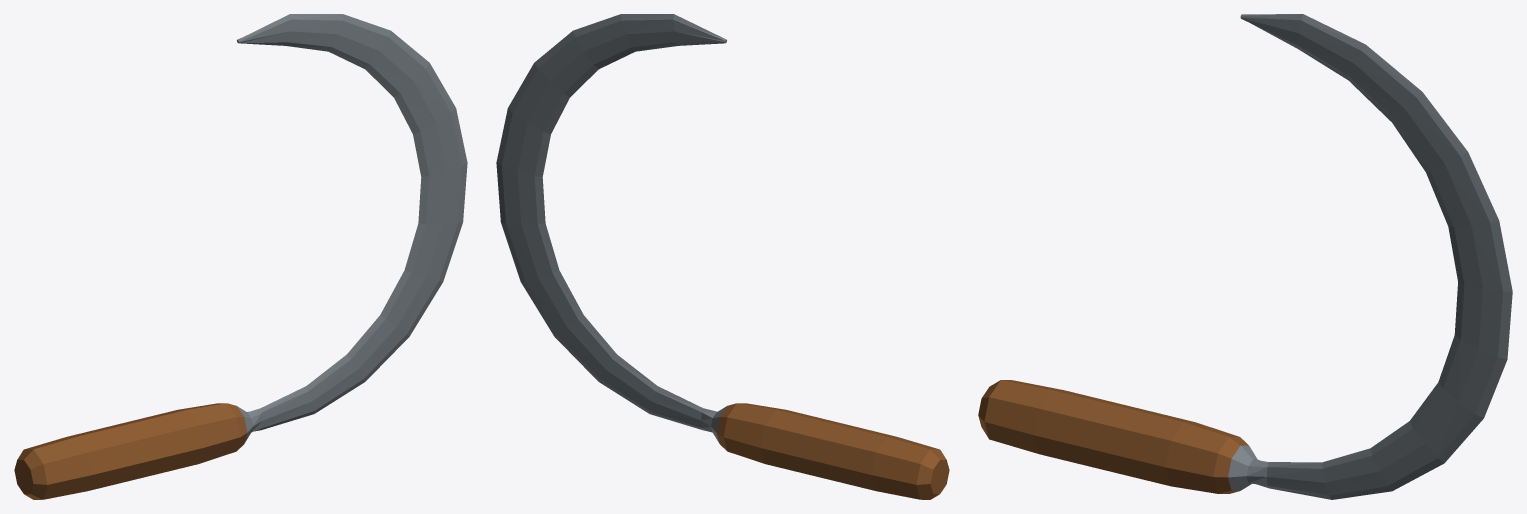
Rendered from NEW_RECOVERY_075_LOD2.fbx.
3 views of the same model, side by side, from view 1: azimuth 30°, elevation 25°; view 2: azimuth 150°, elevation 25°; view 3: azimuth 330°, elevation 25° (orthographic). The views are drawn at different scales.
Visible parts, largest first — view 1: Agricultural hand sickle; view 2: Agricultural hand sickle; view 3: Agricultural hand sickle.
Boxes of the visible parts, box(x1,y1,x2,y2) form: Agricultural hand sickle: box(14, 14, 467, 499); Agricultural hand sickle: box(496, 14, 949, 499); Agricultural hand sickle: box(978, 14, 1512, 499).
Bounding box in the file's own units: 45.86 × 5.4 × 42.02.
